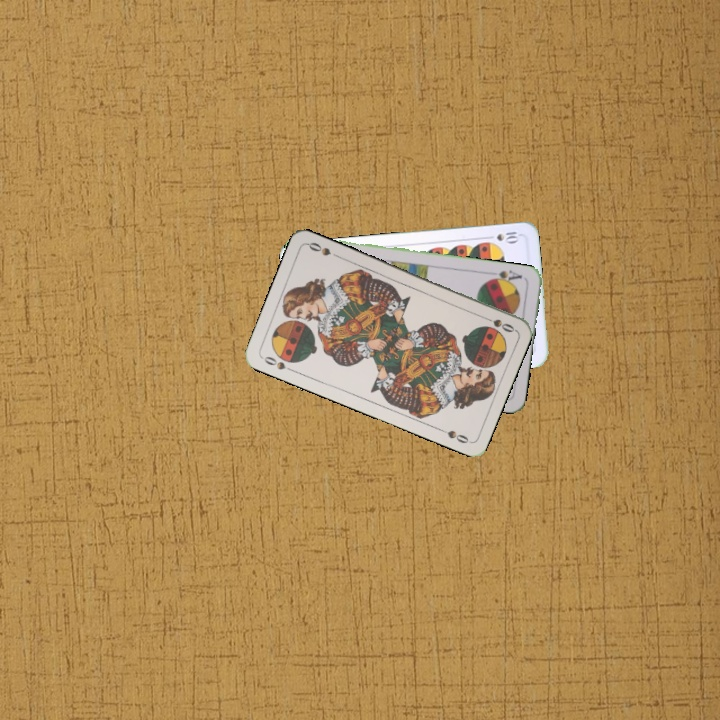S10: (482, 228, 522, 244)
SA: (485, 266, 525, 287)
SO: (478, 312, 517, 335), (258, 352, 297, 374)
